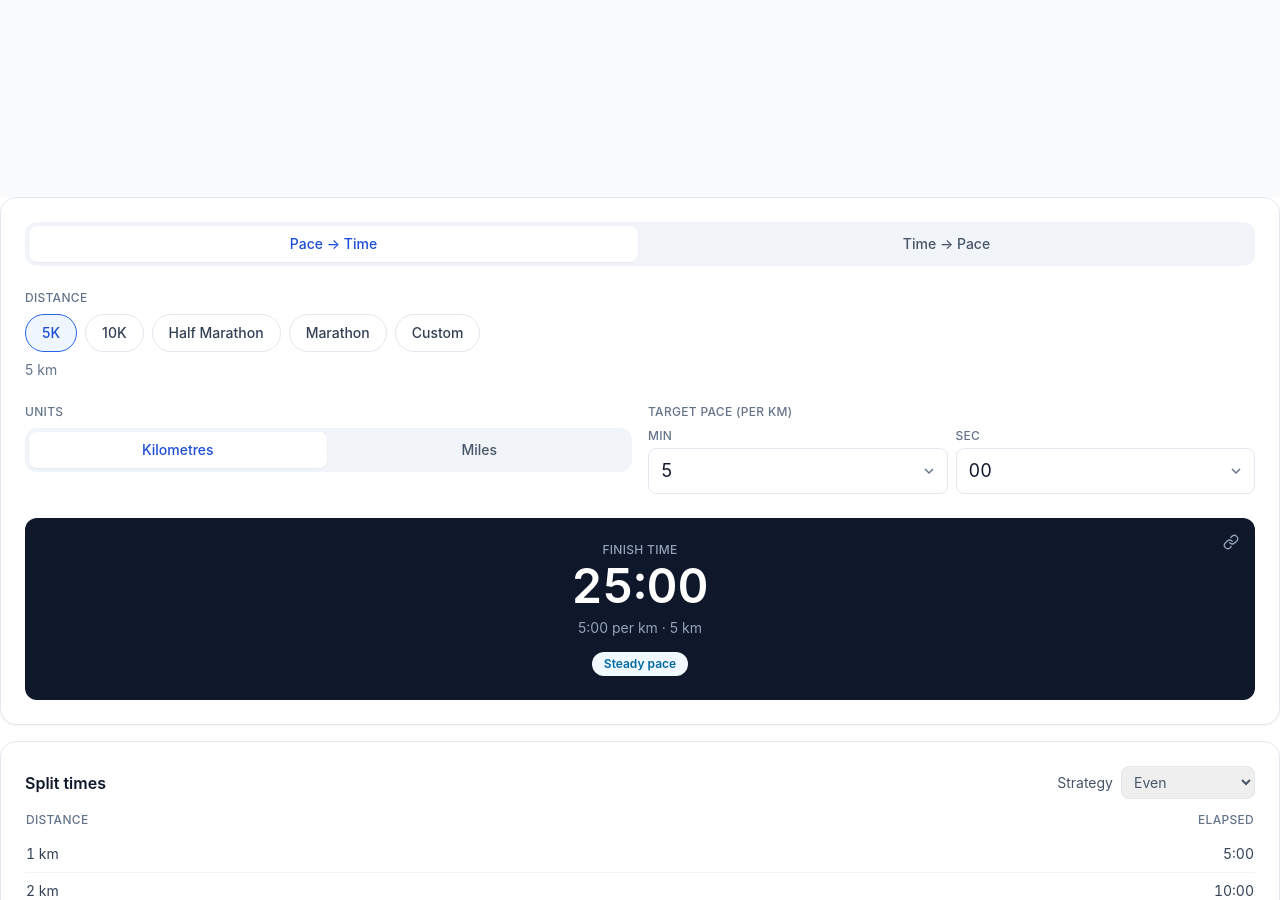
Test: calculating › switching to miles keeps the finish time and converts the pace
(page scrolled)
What coordinates should you click on to do the following:
click the radio button labelled "Miles"
I would click on:
 (479, 450)
Its box is [330, 432, 628, 468].
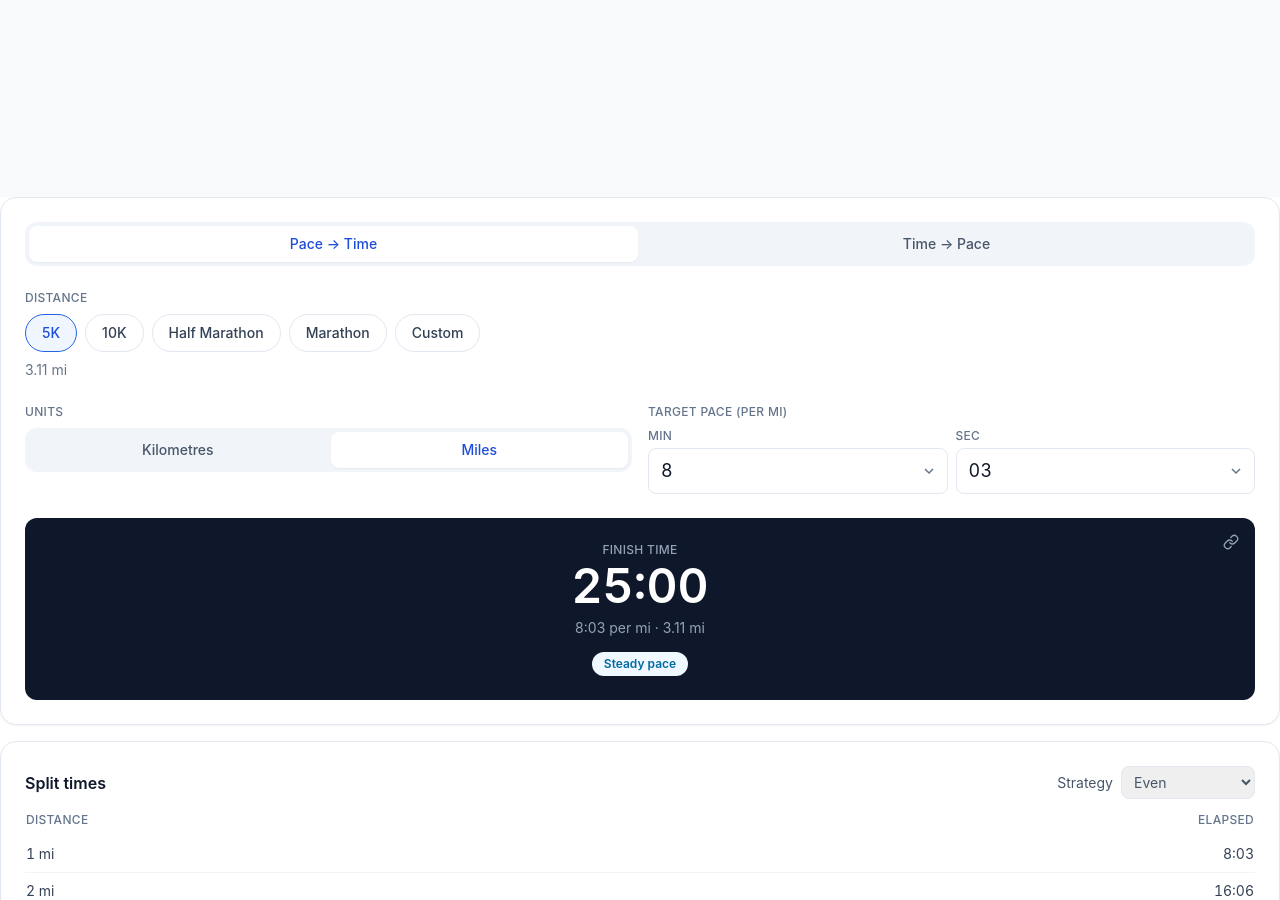
Check: the dropdown labelled "min" shows "8", box [648, 448, 948, 494]
Check: the dropdown labelled "sec" shows "03", box [956, 448, 1255, 494]
